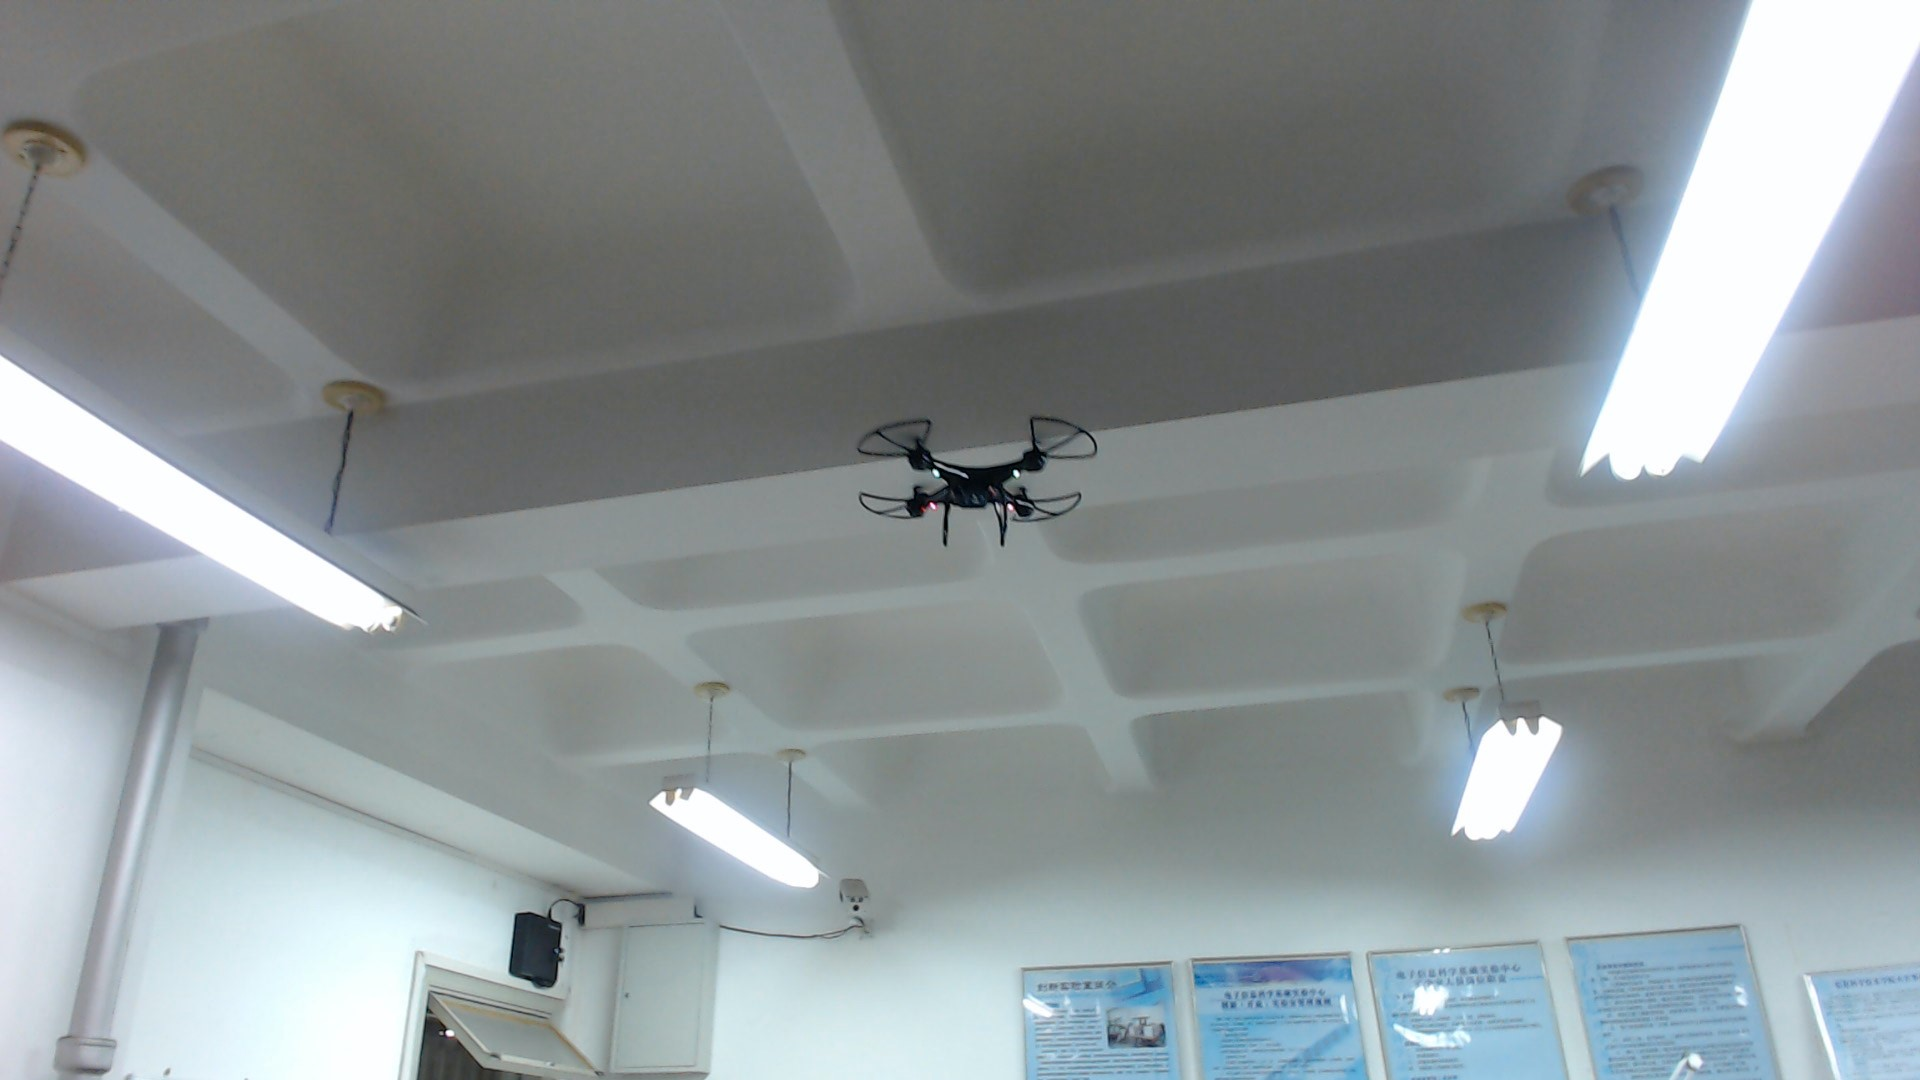test_drone: (851, 413, 1104, 554)
